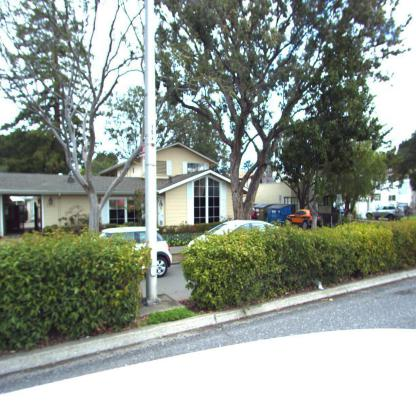car: (100, 226, 173, 278), (286, 211, 314, 229)
truck: (366, 204, 407, 220)
